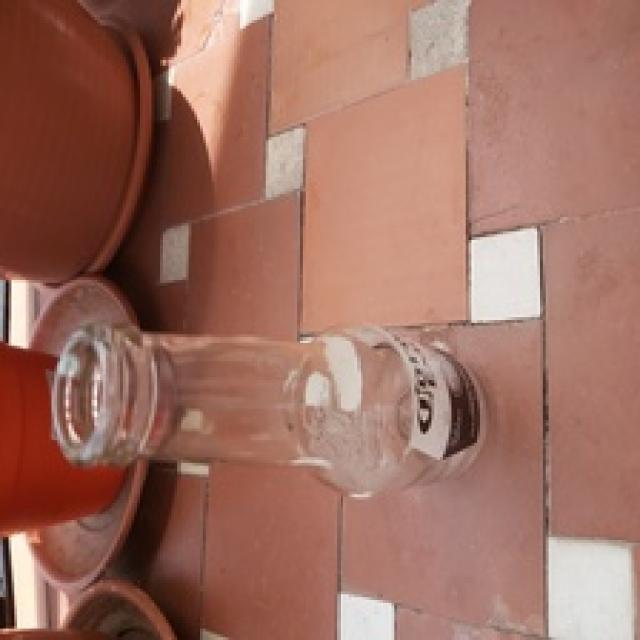Glass: (54, 323, 492, 499)
